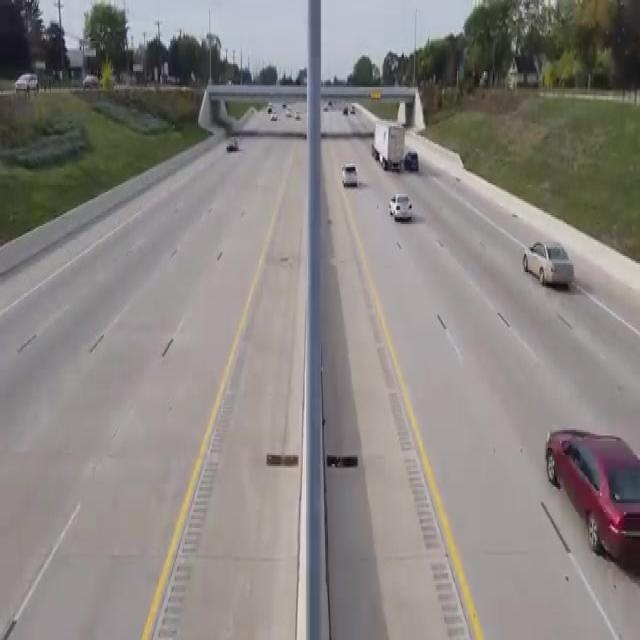car: (542, 414, 640, 565), (522, 234, 574, 293), (335, 155, 365, 201), (390, 191, 419, 230), (224, 134, 246, 165), (400, 148, 423, 169)
truck: (371, 121, 411, 171)
